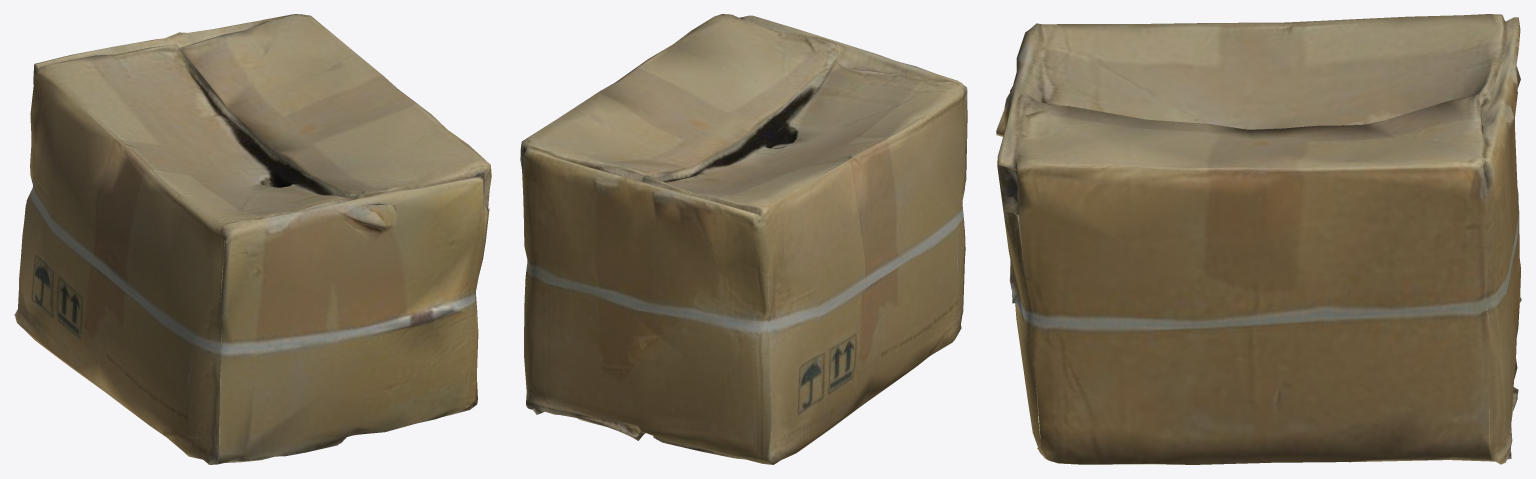
File: cardboard_box_01.glb
The picture shows the model from 3 angles, left to right: view 1: azimuth 30°, elevation 25°; view 2: azimuth 150°, elevation 25°; view 3: azimuth 270°, elevation 25°; orthographic projection. The views are drawn at different scales.
Parts seen in each view (by area): view 1: cardboard_box_01; view 2: cardboard_box_01; view 3: cardboard_box_01.
Part boxes in pixels (x1,y1,x2,y2): cardboard_box_01: (14,14,491,464); cardboard_box_01: (520,14,967,464); cardboard_box_01: (996,14,1521,464).
Size of the model in its own units: 0.3872 by 0.3414 by 0.5155.
1 material, 1 textured.
